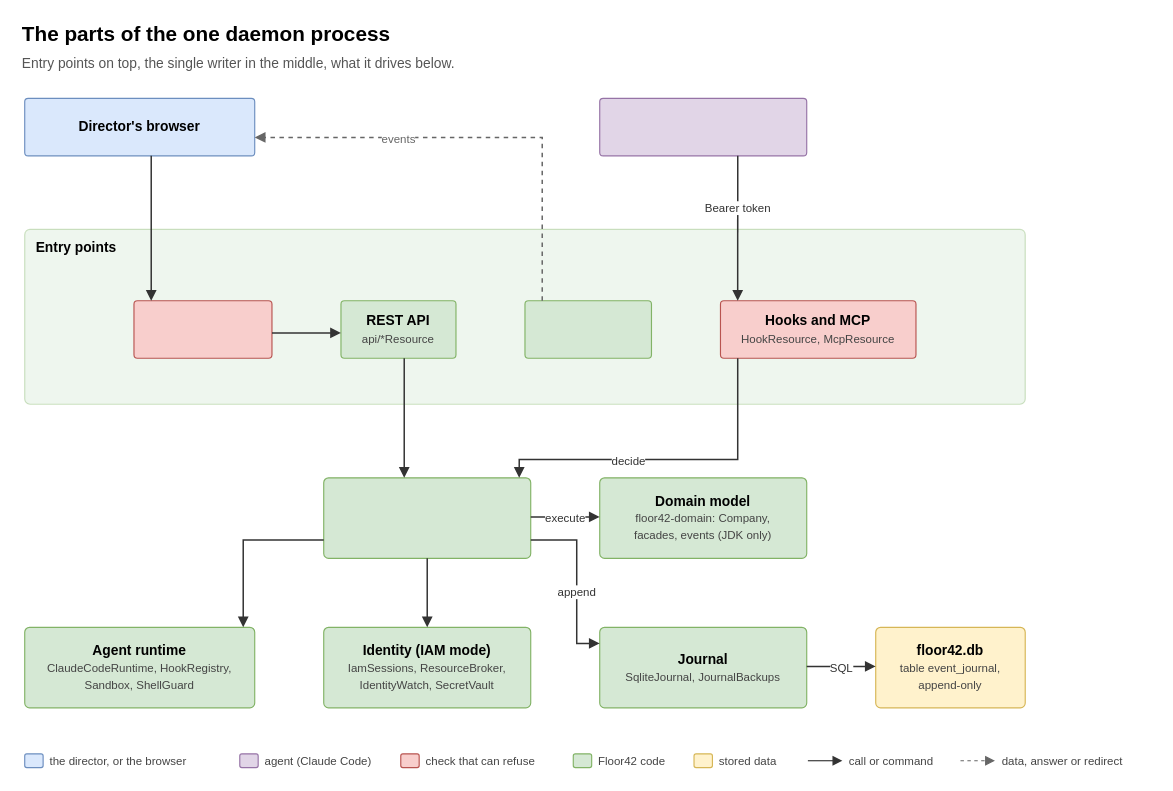
This 1173x791 diagram has some shape labels left out. Here are the shapes that lost their labels. From the top down, the centre of each, then its label:
(703,126): Claude Code agent session
(202,329): Access guard LocalAccessGuard
(587,329): WebSockets /ws/events, ...
(427,517): Orchestration OfficeService, Dispatcher, MissionGovernor, SessionGate
